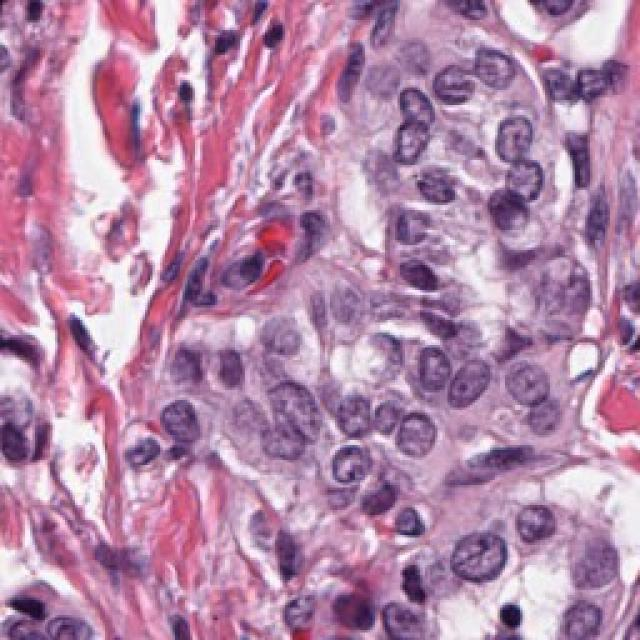abnormal: (480, 465, 580, 574), (126, 385, 228, 477), (358, 387, 456, 476), (445, 520, 533, 604), (493, 362, 582, 441), (522, 251, 607, 332), (572, 521, 632, 627), (310, 424, 395, 493), (429, 334, 491, 426), (499, 346, 553, 435), (491, 153, 549, 235), (433, 49, 492, 125), (383, 108, 441, 182), (492, 112, 551, 172), (260, 378, 320, 428)
